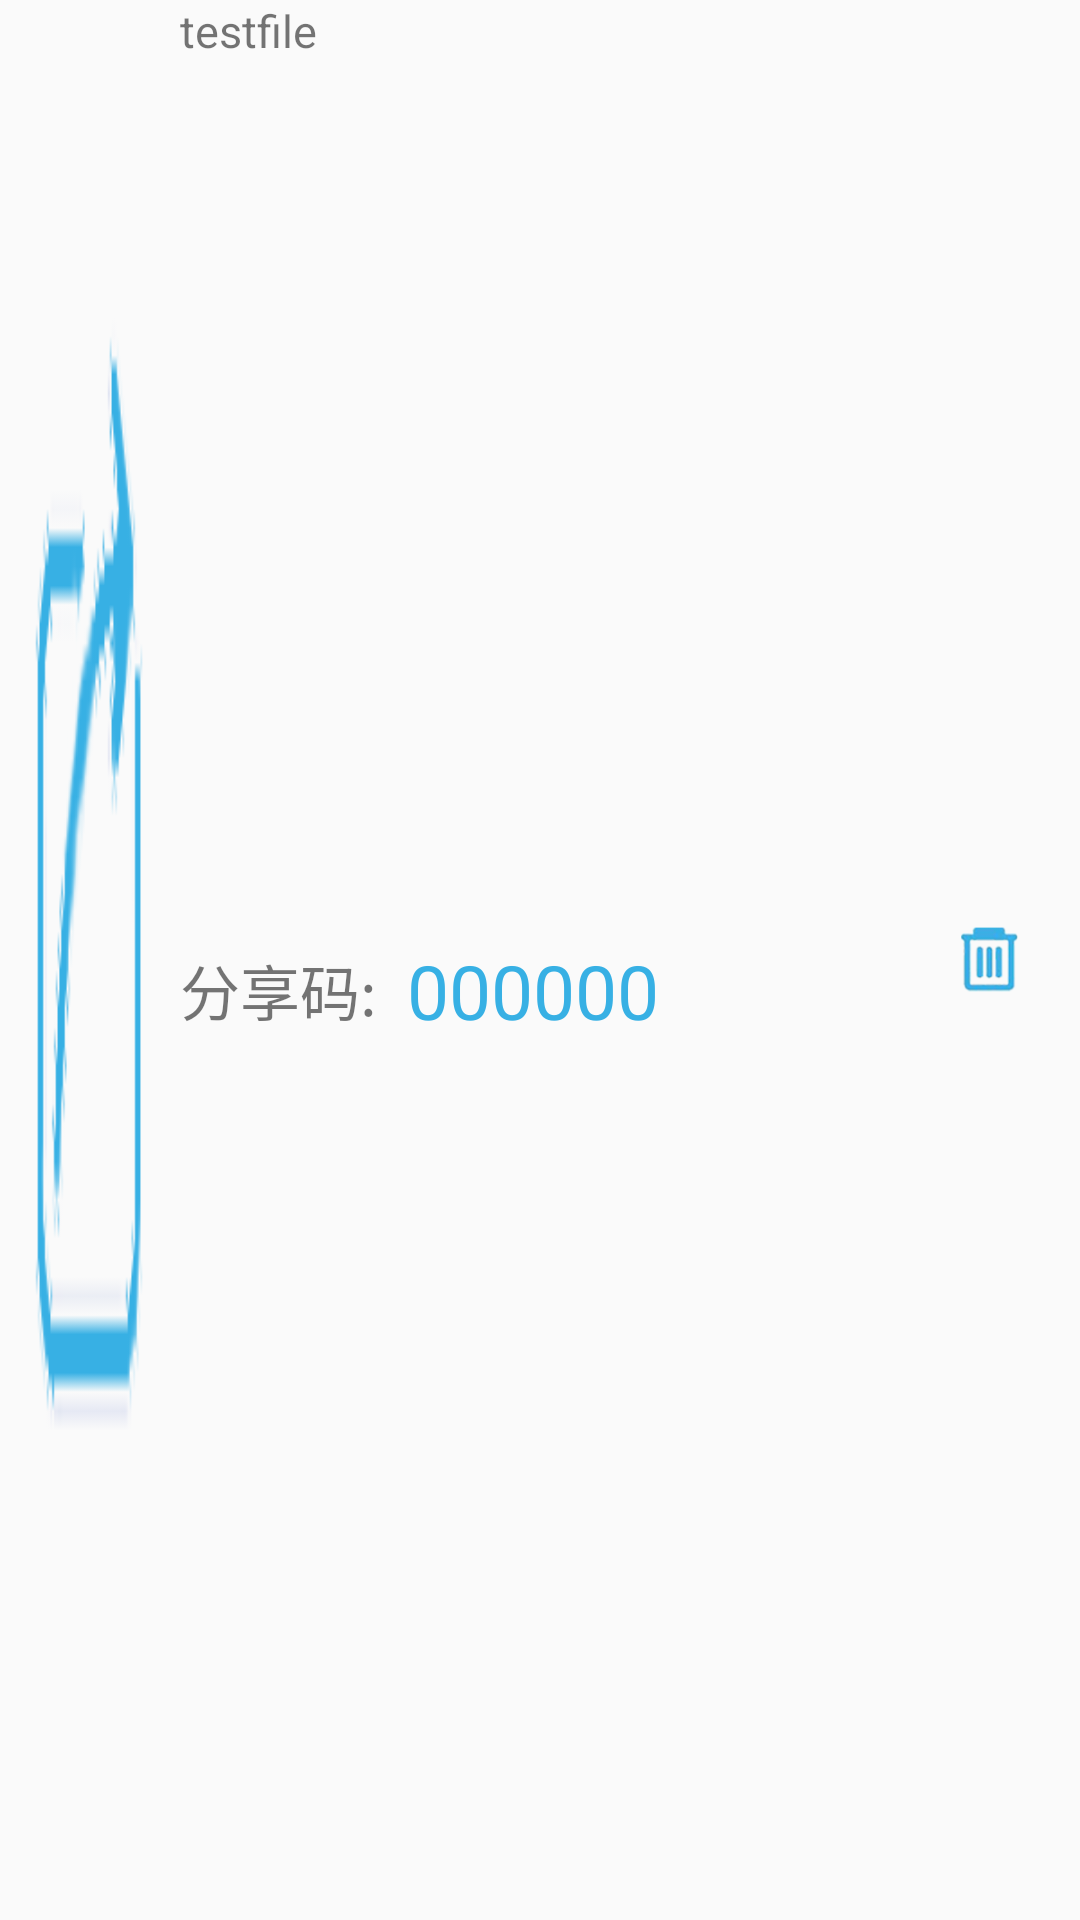

Point at icon controls on the screen. Image size 1080 × 1920, points as (x=x, y=y).
delete: (x=989, y=959)
